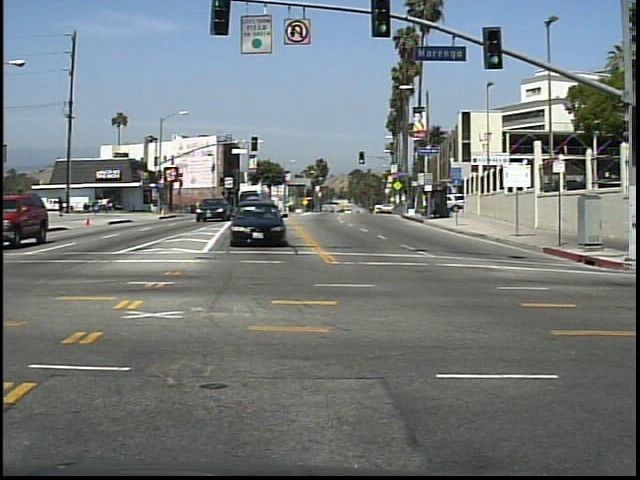person: (53, 192, 69, 220)
